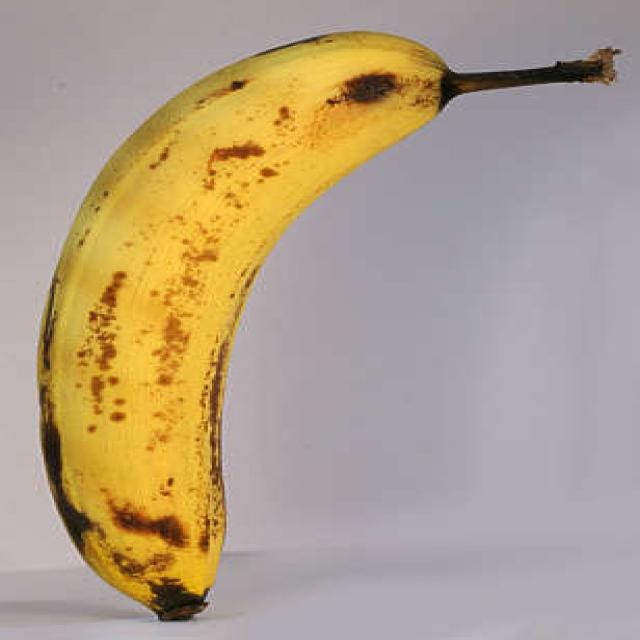Banana: (44, 34, 624, 614)
